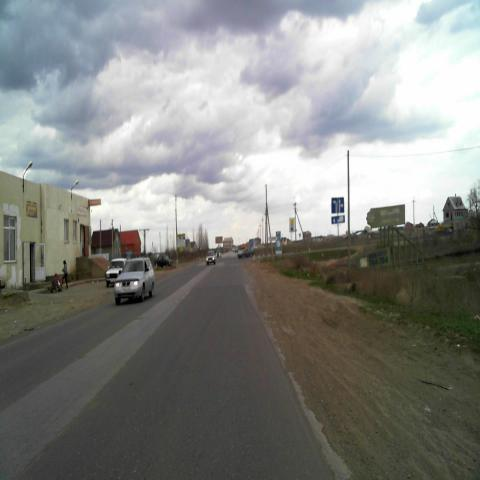6_15_1: (331, 214, 344, 224)
